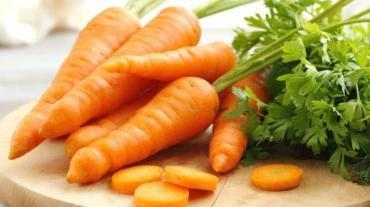carrot: (8, 5, 264, 175), (59, 82, 275, 193), (102, 51, 249, 90)
